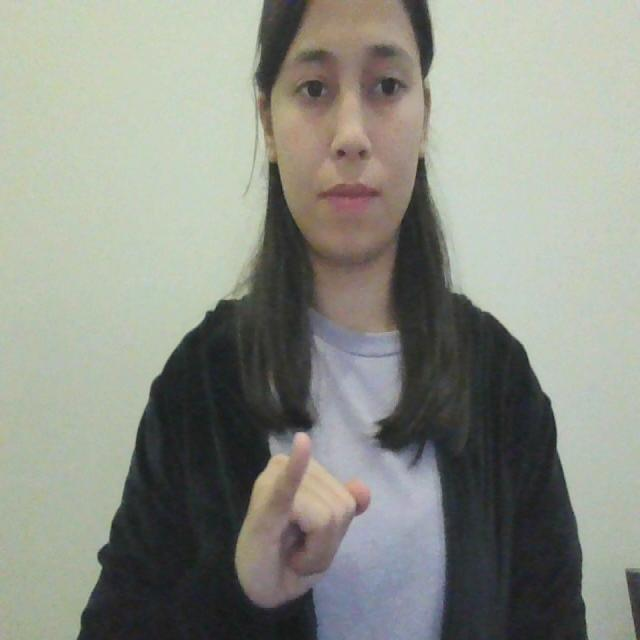kotu: (229, 424, 375, 589)
